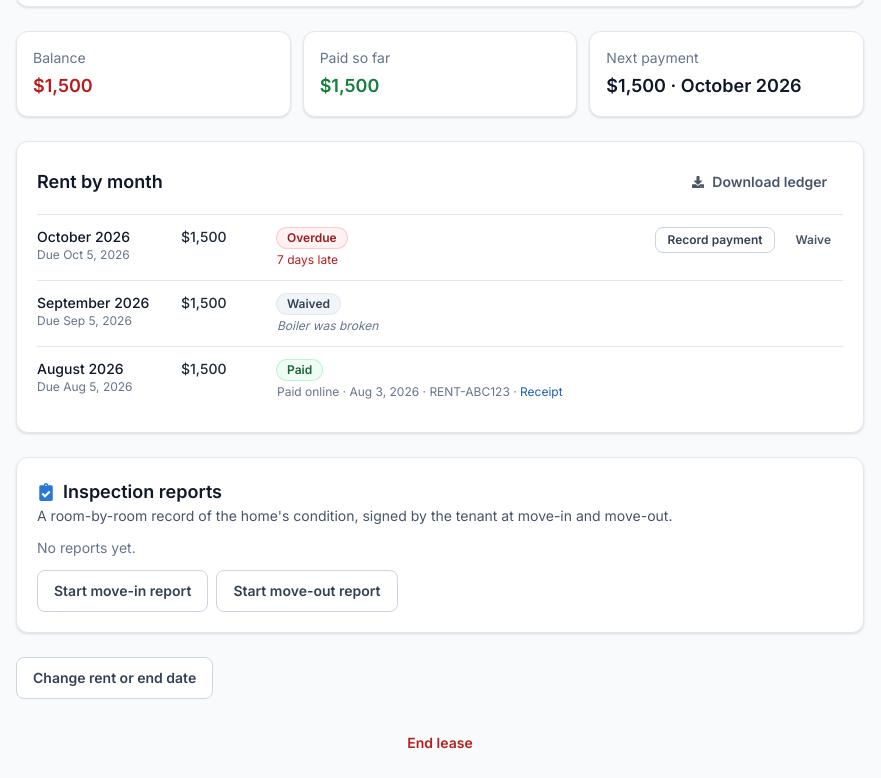
Scenario: Lease page › changing terms › lets the owner schedule a rent change and shows it
(page scrolled)
Click the button "Change rent or end date".
click(115, 678)  # box [16,657,213,699]
(page scrolled)
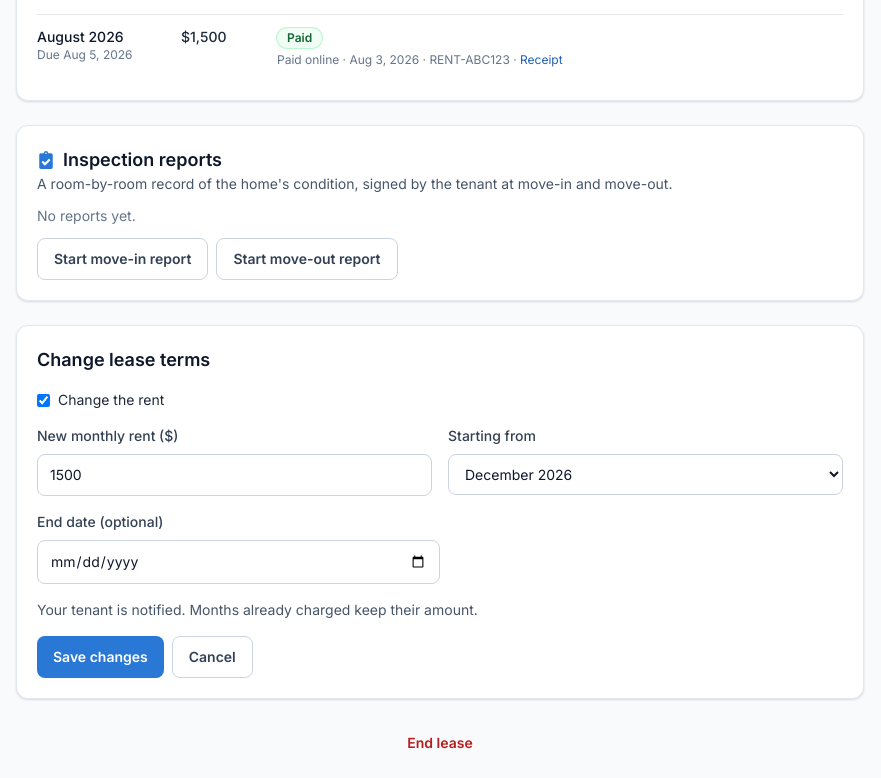
Expected: the number field labelled "New monthly rent ($)" holds "1500"
Replace the text in the number field labelled "New monthly rent ($)" with "1650" at (234, 475), box [37,454,432,496]
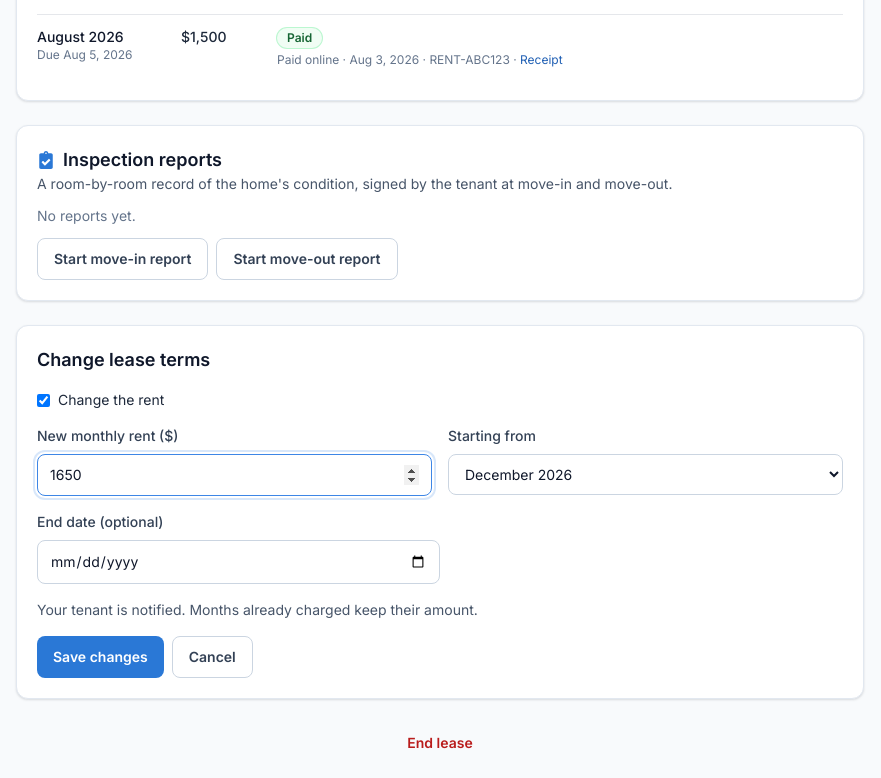
Click the button "Save changes".
click(100, 657)  # box [37,636,164,678]
(page scrolled)
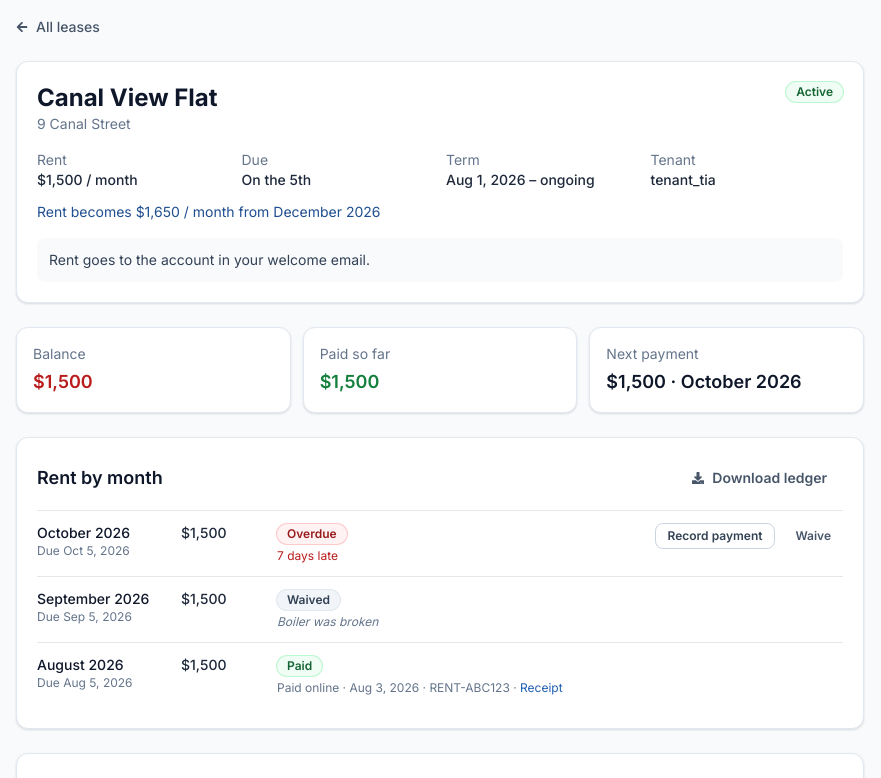
Expected: the list item "Rent becomes $1,650 / month from December 2026" is shown, [37,203,380,220]
Expected: the heading "Change lease terms" is gone
